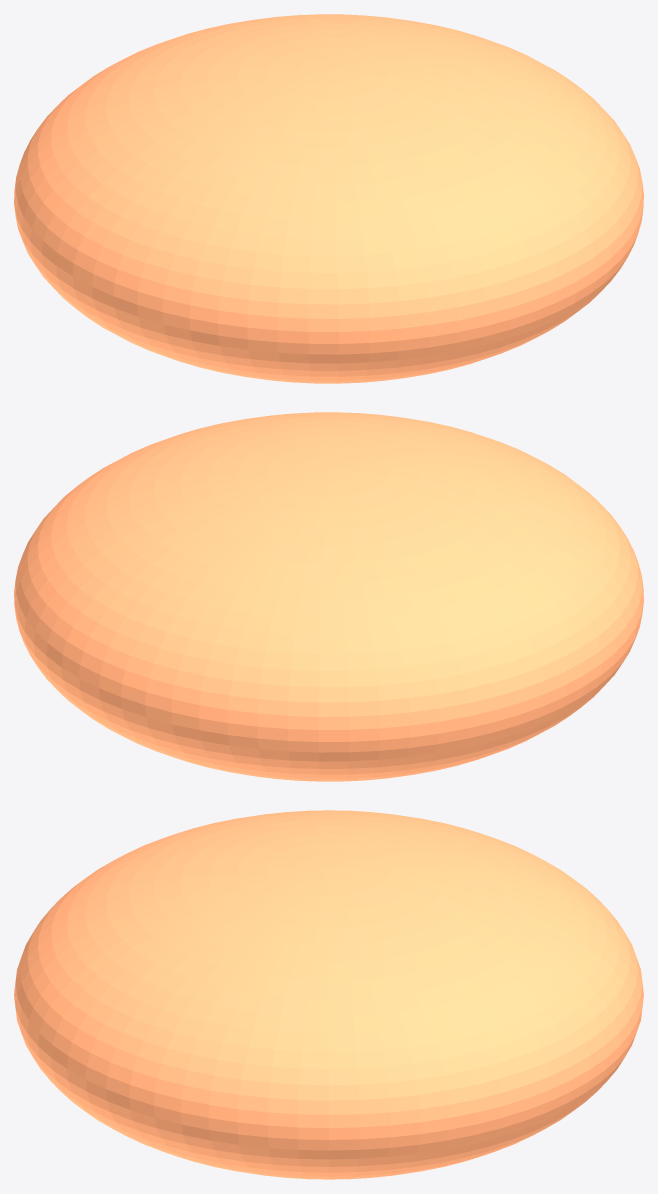
File: Rover_Bay.glb
3 views of the same model, one above another, from view 1: azimuth 30°, elevation 25°; view 2: azimuth 150°, elevation 25°; view 3: azimuth 270°, elevation 25° (orthographic).
Parts seen in each view (by area): view 1: Mars_Dusty_Sky_Dome; view 2: Mars_Dusty_Sky_Dome; view 3: Mars_Dusty_Sky_Dome.
Part boxes in pixels (x1,y1,x2,y2): Mars_Dusty_Sky_Dome: (14, 14, 643, 383); Mars_Dusty_Sky_Dome: (14, 412, 643, 781); Mars_Dusty_Sky_Dome: (14, 810, 643, 1179).
Bounding box in the file's own units: 116 × 52 × 116.
